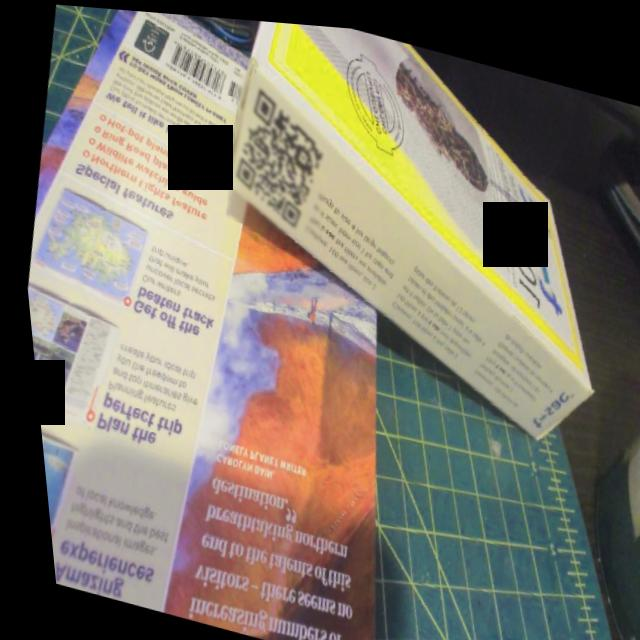QR_CODE: (211, 68, 345, 241)
